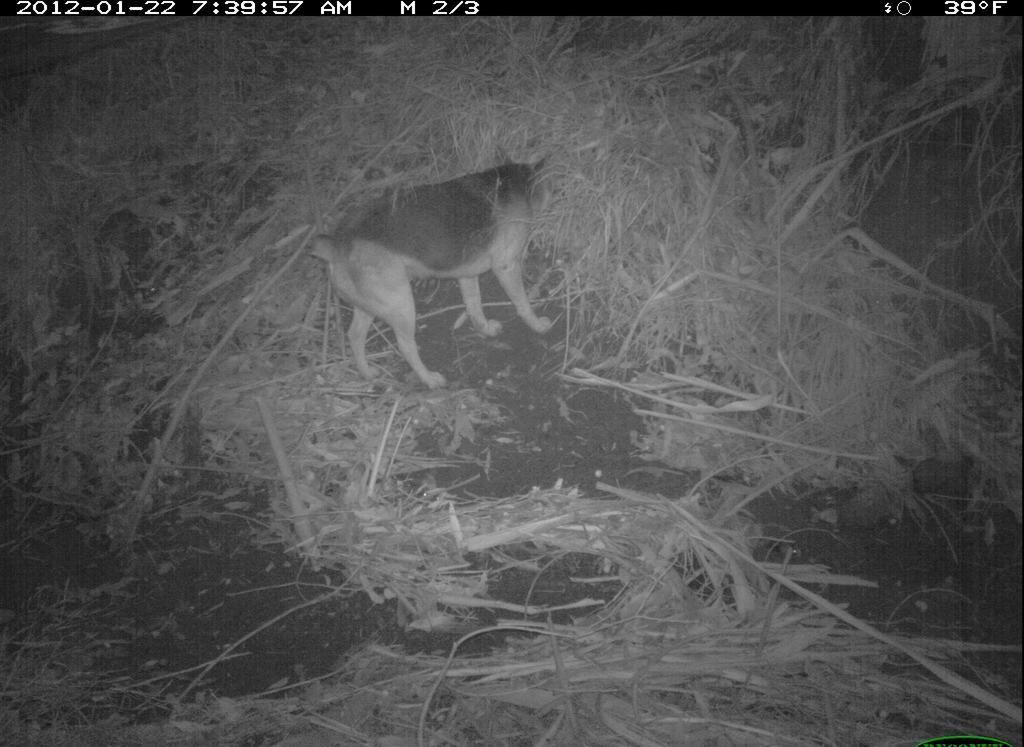dog: (296, 147, 567, 401)
